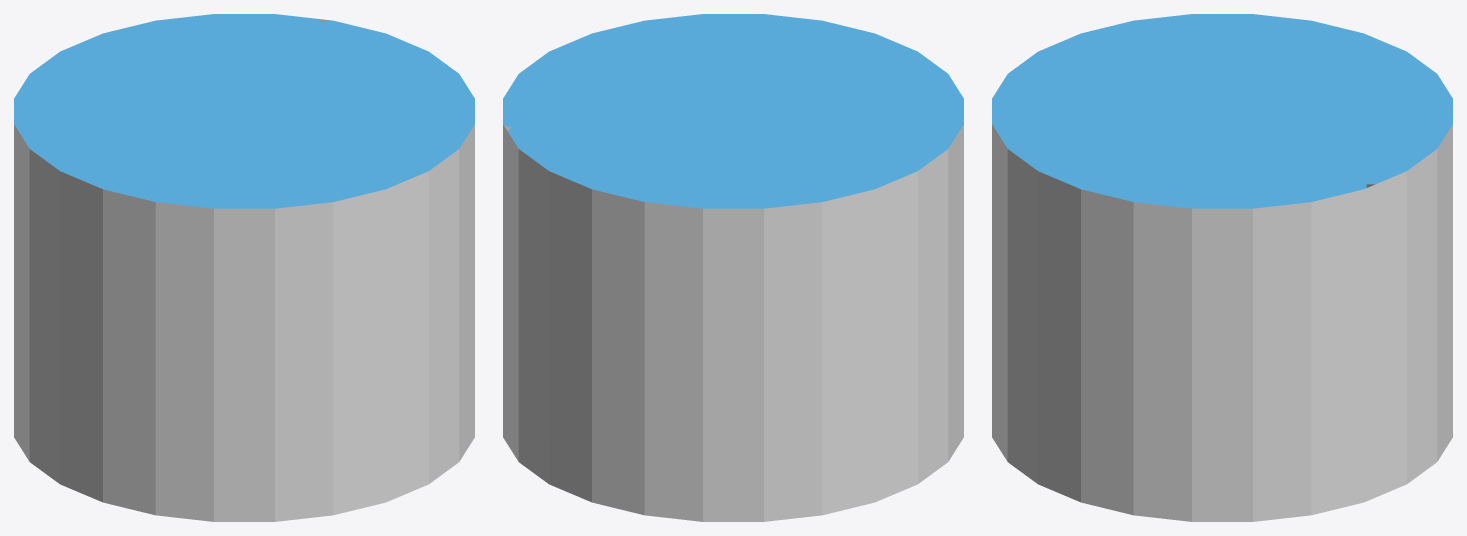
3 views of the same model, side by side, from view 1: azimuth 30°, elevation 25°; view 2: azimuth 150°, elevation 25°; view 3: azimuth 270°, elevation 25° (orthographic).
Parts seen in each view (by area): view 1: cylinder; view 2: cylinder; view 3: cylinder.
Part boxes in pixels (<box>): cylinder: <box>14,14,474,521</box>; cylinder: <box>503,14,963,521</box>; cylinder: <box>992,14,1452,521</box>.
Bounding box in the file's own units: 1 × 0.75 × 1.
Materials: 1 (1 with a texture image).
